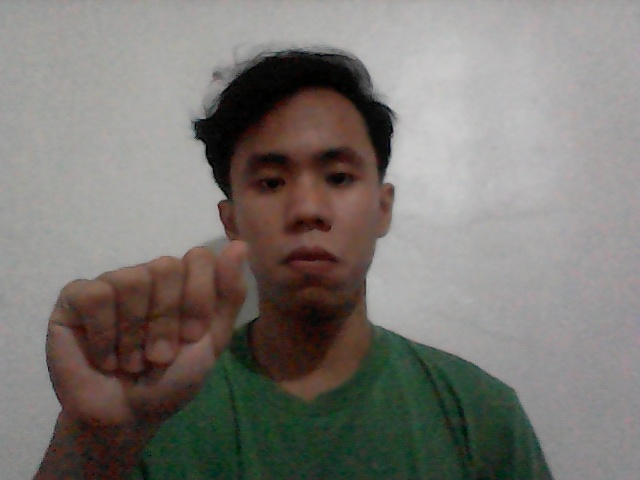A: (18, 222, 274, 448)
